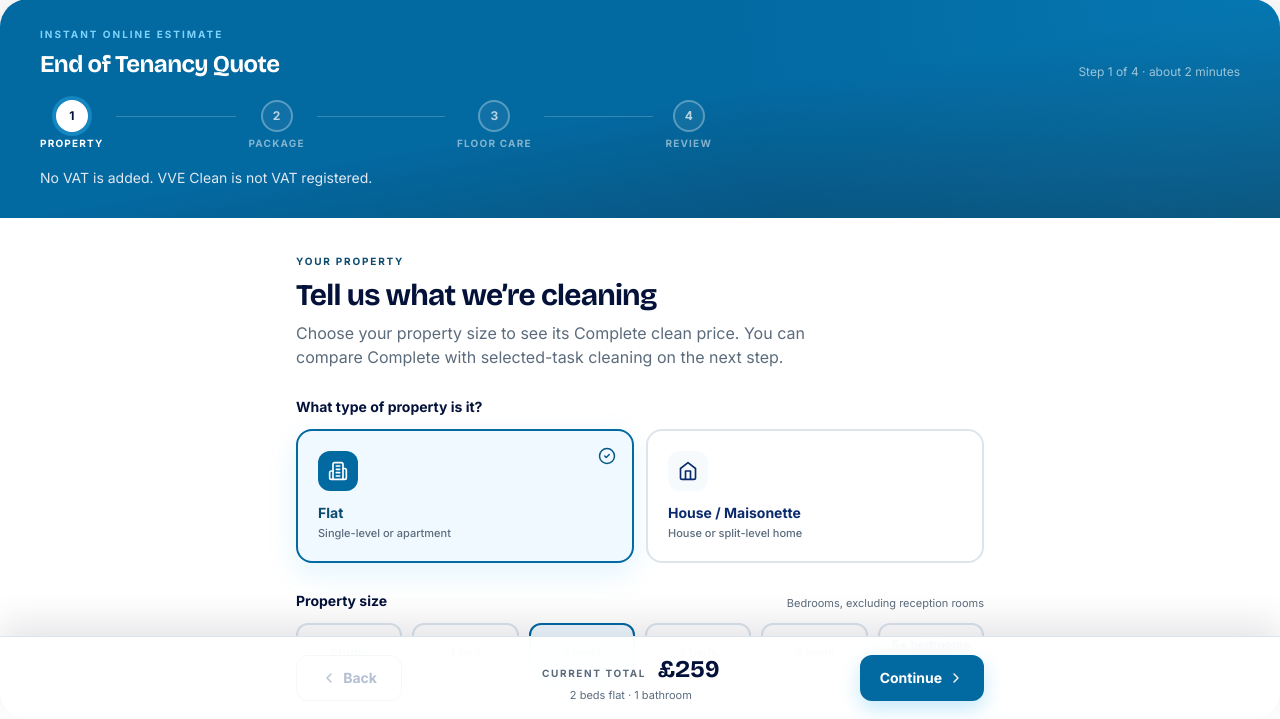
Test case: EotQuoteWizard — Step 2: Choose your cleaning package › Complete mentions microwave, fridge/freezer, dishwasher and washing-machine interiors
The image size is (1280, 719).
Click the button "Continue": (922, 678) x1=860 y1=655 x2=984 y2=701
(page scrolled)
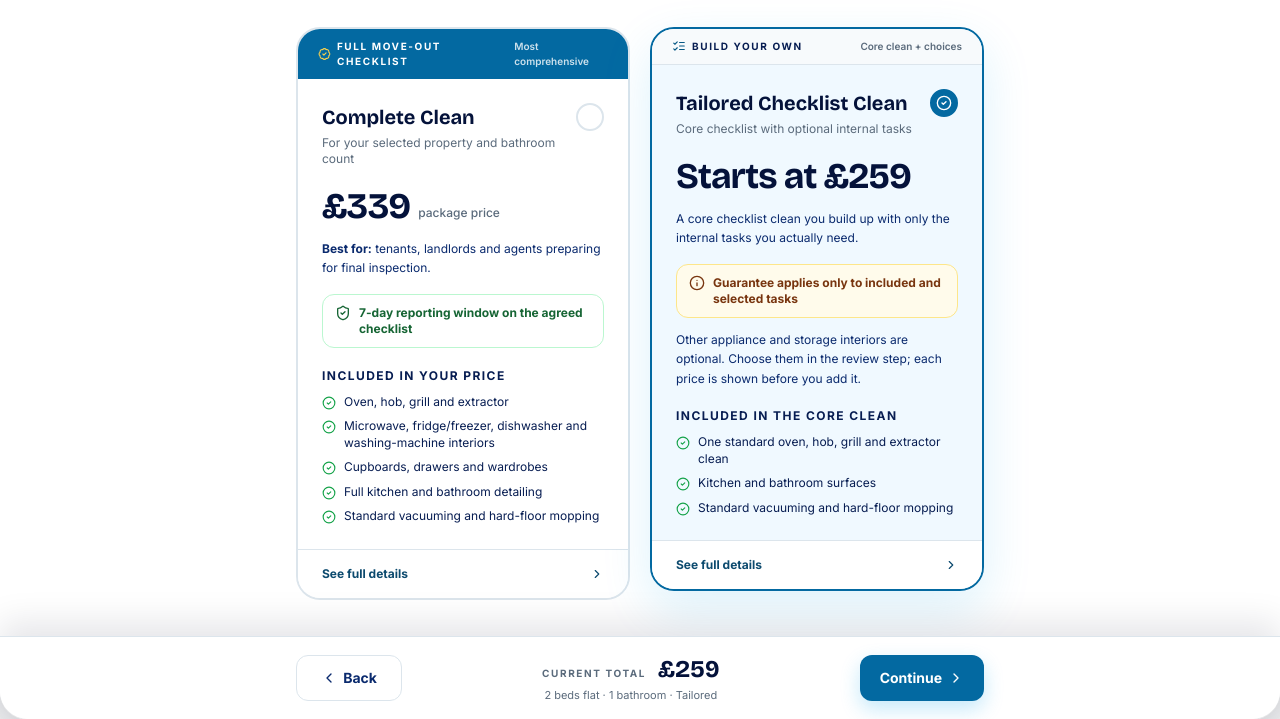
Expected: the text "Microwave, fridge/freezer, dishwasher and washing-machine interiors" is shown, x1=322 y1=418 x2=604 y2=451
